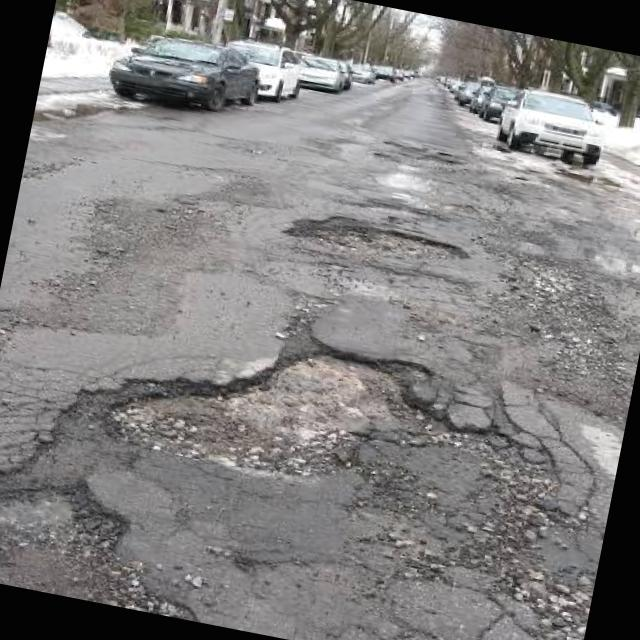Lubang: (113, 356, 430, 476), (0, 486, 125, 580), (285, 216, 468, 266)
